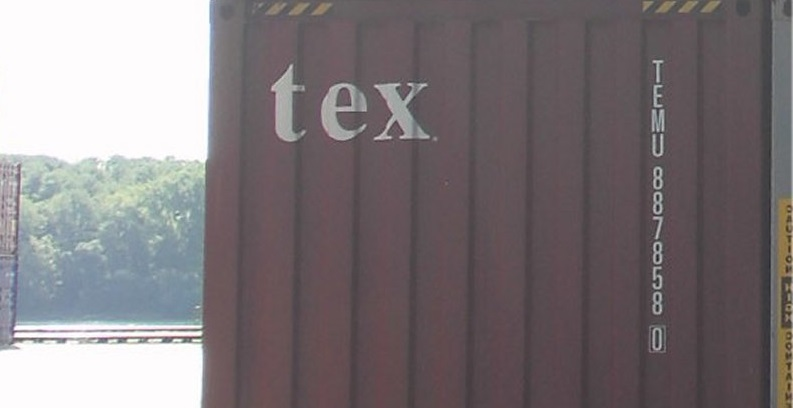container_no_door: (207, 5, 767, 405)
